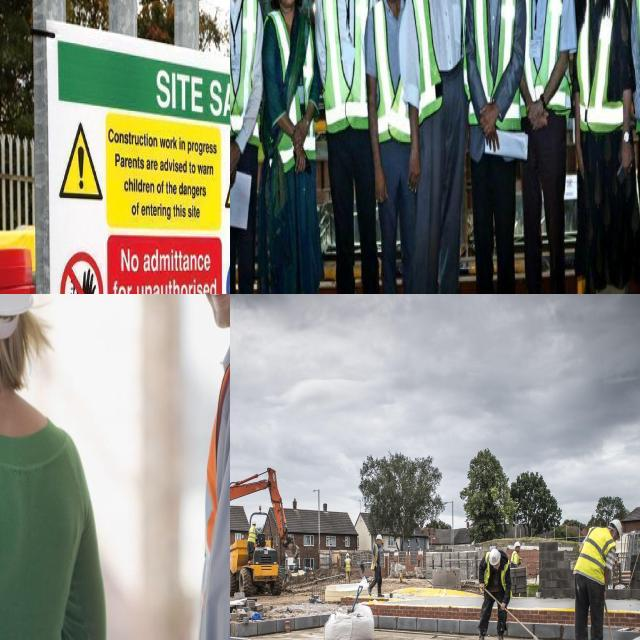hand_noglove: (479, 120, 502, 148), (530, 102, 548, 137), (290, 115, 308, 150), (406, 151, 422, 188), (373, 168, 388, 206), (230, 139, 241, 190), (575, 142, 588, 183), (292, 147, 308, 178), (481, 103, 495, 138), (621, 139, 634, 174)
head_helmet: (488, 549, 502, 566), (610, 519, 624, 534), (374, 532, 386, 542), (343, 550, 350, 558), (515, 540, 522, 546), (253, 522, 258, 528)
person: (0, 294, 114, 640), (170, 294, 230, 640), (462, 0, 521, 294), (517, 0, 576, 294), (409, 0, 466, 294), (570, 0, 626, 294), (321, 0, 370, 294), (261, 0, 310, 294), (368, 0, 412, 294), (230, 0, 261, 294), (572, 517, 615, 640), (480, 550, 512, 640), (370, 533, 388, 595), (340, 548, 356, 578), (247, 518, 261, 548)
shoes: (496, 632, 510, 640), (472, 633, 486, 640), (367, 584, 373, 597), (378, 592, 384, 598)
vest: (268, 6, 312, 160), (574, 0, 624, 127), (323, 0, 367, 123), (375, 0, 412, 142), (469, 0, 520, 101), (415, 0, 465, 103), (230, 0, 259, 144), (524, 0, 566, 95), (584, 528, 610, 580), (480, 563, 509, 585), (374, 544, 383, 566), (512, 552, 521, 566), (346, 556, 352, 568), (250, 531, 256, 541)
